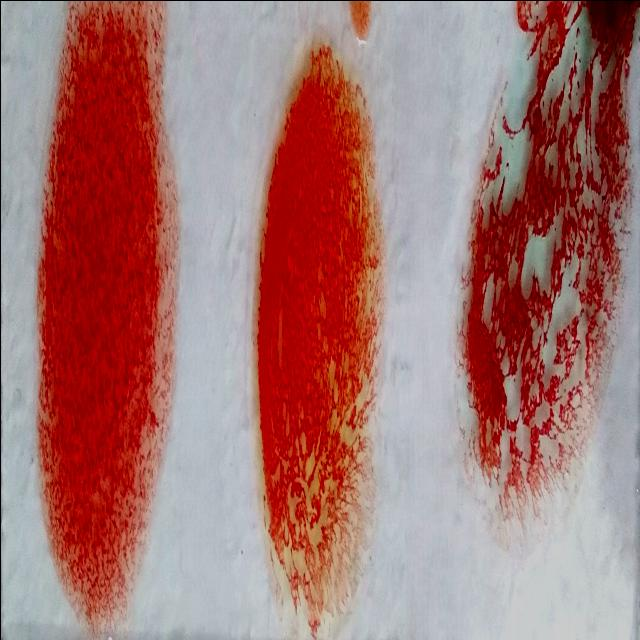A: (463, 0, 632, 528)
B: (256, 26, 377, 617)
D: (42, 0, 170, 619)
